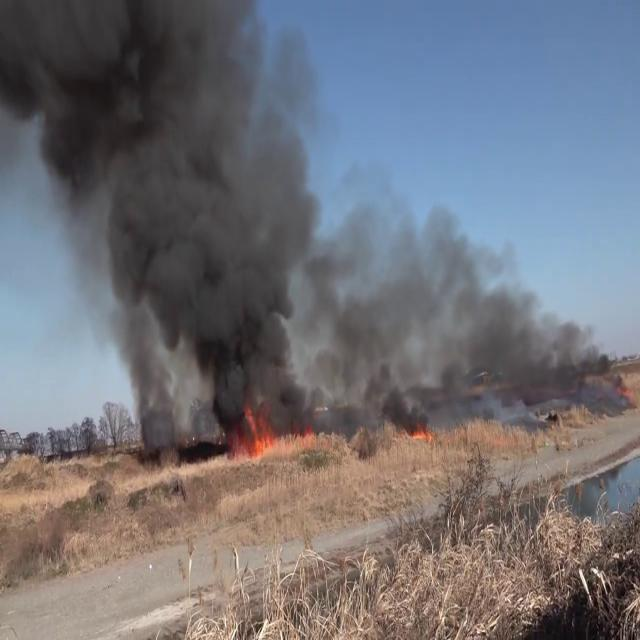Fire: (229, 397, 326, 459)
Smoke: (0, 0, 318, 433), (310, 177, 630, 426)
